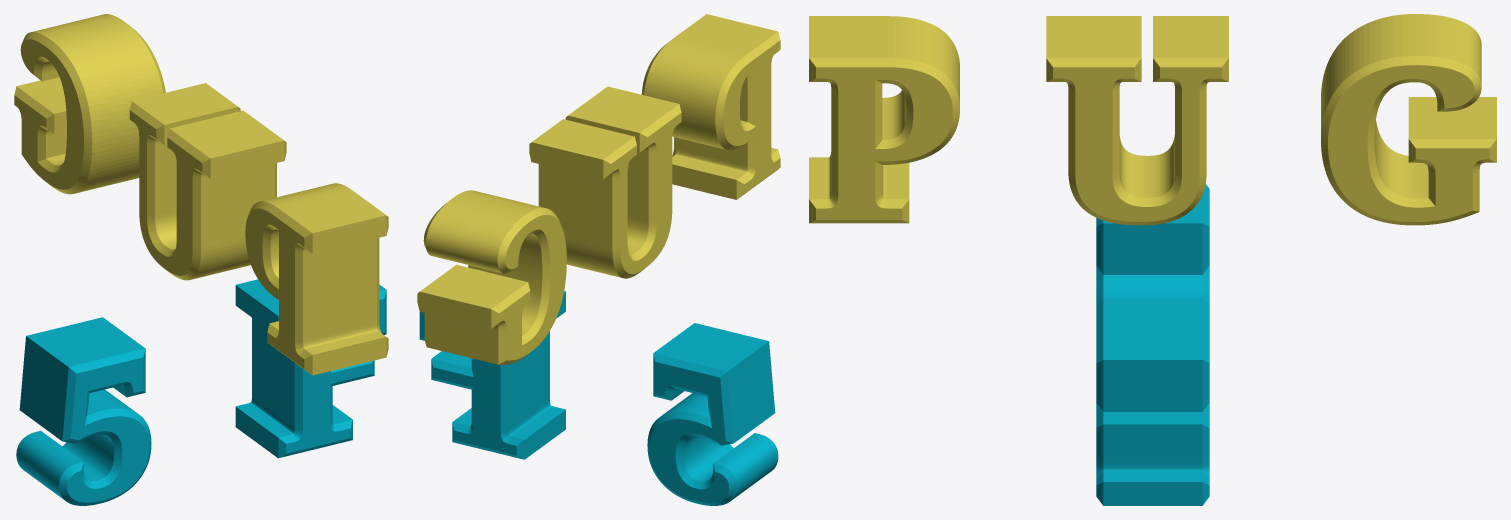
Rendered from PUG 5F.glb.
The picture shows the model from 3 angles, left to right: view 1: azimuth 30°, elevation 25°; view 2: azimuth 150°, elevation 25°; view 3: azimuth 270°, elevation 25°; orthographic projection. The views are drawn at different scales.
Parts seen in each view (by area): view 1: Mesh_Mesh_head_geo.001_lambert2SG.001; view 2: Mesh_Mesh_head_geo.001_lambert2SG.001; view 3: Mesh_Mesh_head_geo.001_lambert2SG.001.
Part boxes in pixels (x1,y1,x2,y2): Mesh_Mesh_head_geo.001_lambert2SG.001: [14, 14, 388, 505]; Mesh_Mesh_head_geo.001_lambert2SG.001: [417, 14, 780, 505]; Mesh_Mesh_head_geo.001_lambert2SG.001: [809, 14, 1496, 505].
Size of the model in its own units: 51.67 by 51.88 by 80.93.
